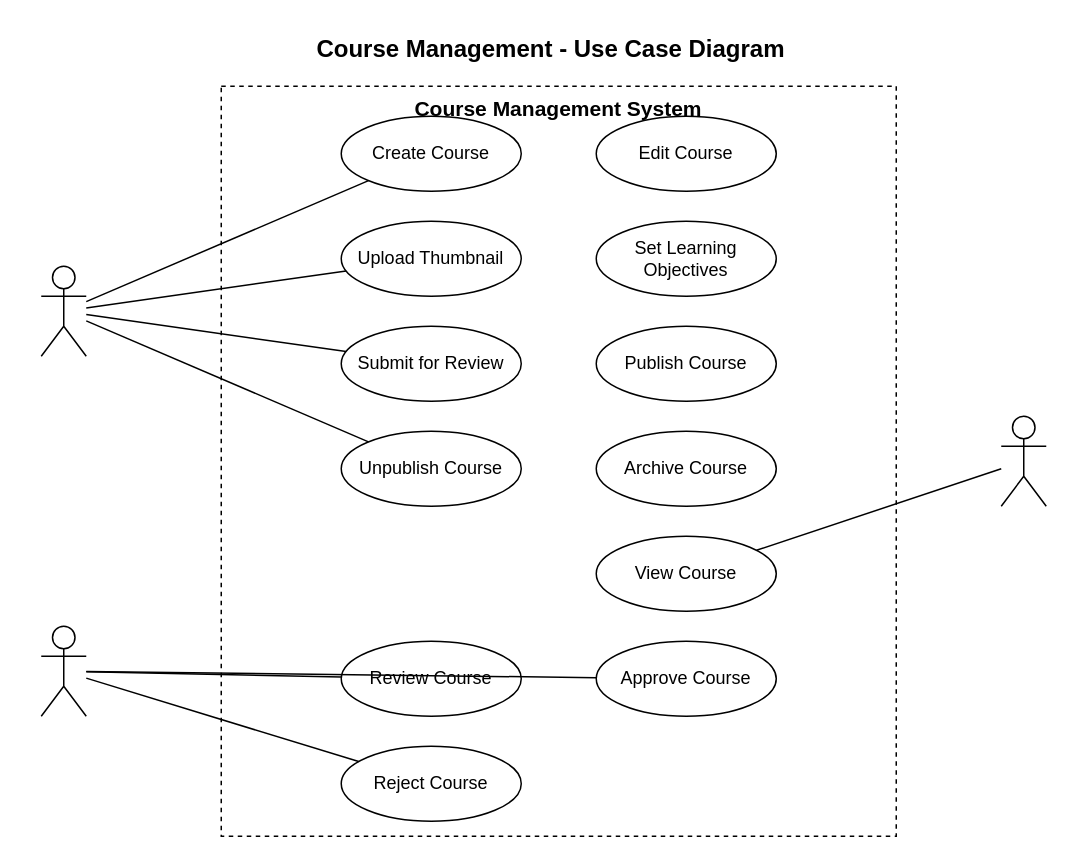
Some shapes in this 1080 by 863 pixel diagram are drawn without their labels. The centre of each missing label's shape, as x and y in pixels:
"Instructor" goes at point 63,310.
"Reviewer" goes at point 63,670.
"Student" goes at point 1023,460.
